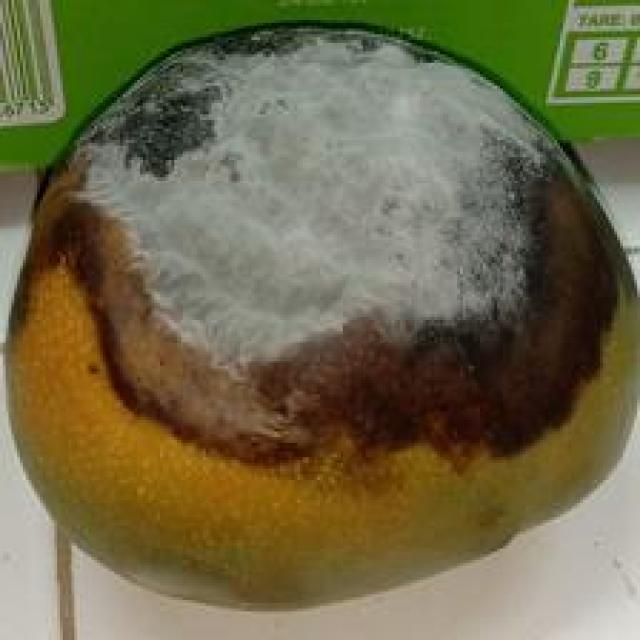Bad_Mango: (10, 30, 640, 606)
